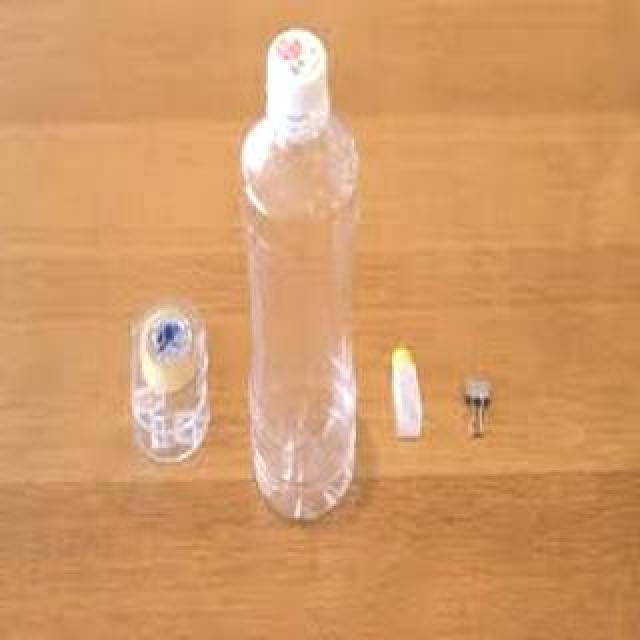Pet_Bottle: (240, 30, 358, 520)
